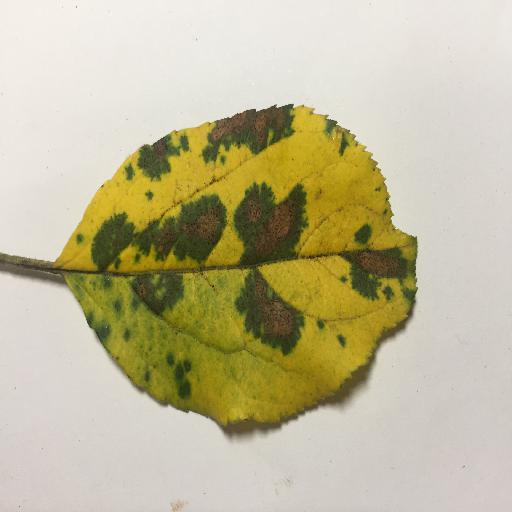Brown_Spot: (233, 194, 297, 252), (344, 243, 414, 286), (243, 279, 295, 336), (209, 115, 293, 149), (142, 216, 221, 251), (133, 278, 162, 299), (147, 140, 171, 165)
